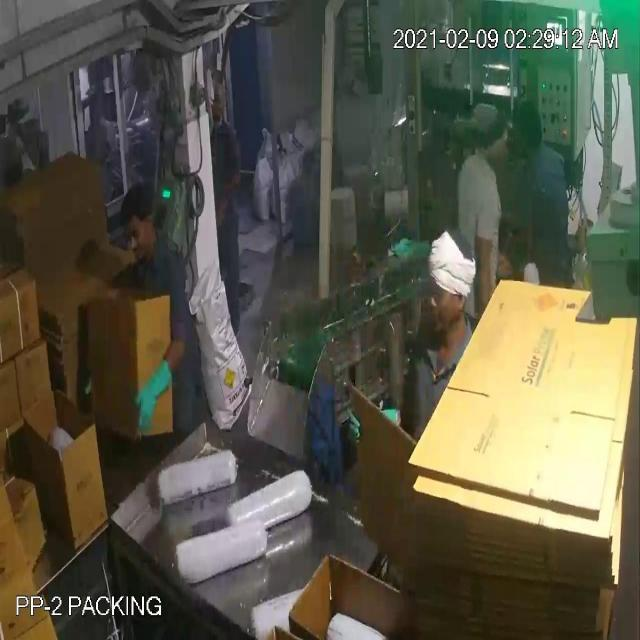Gloves: (34, 70, 222, 392)
